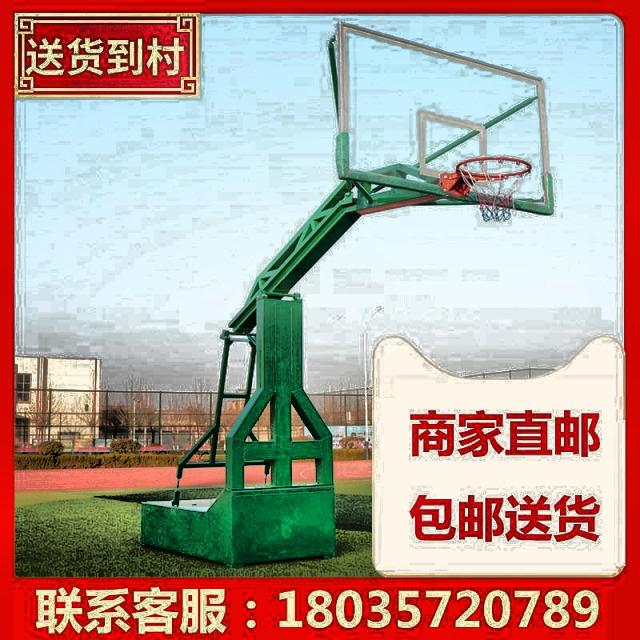rim: (452, 157, 531, 221)
